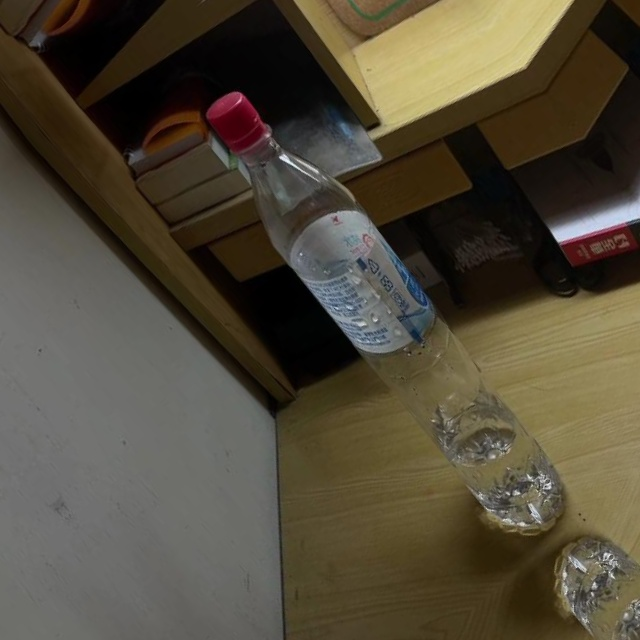Water: (173, 72, 605, 560)
